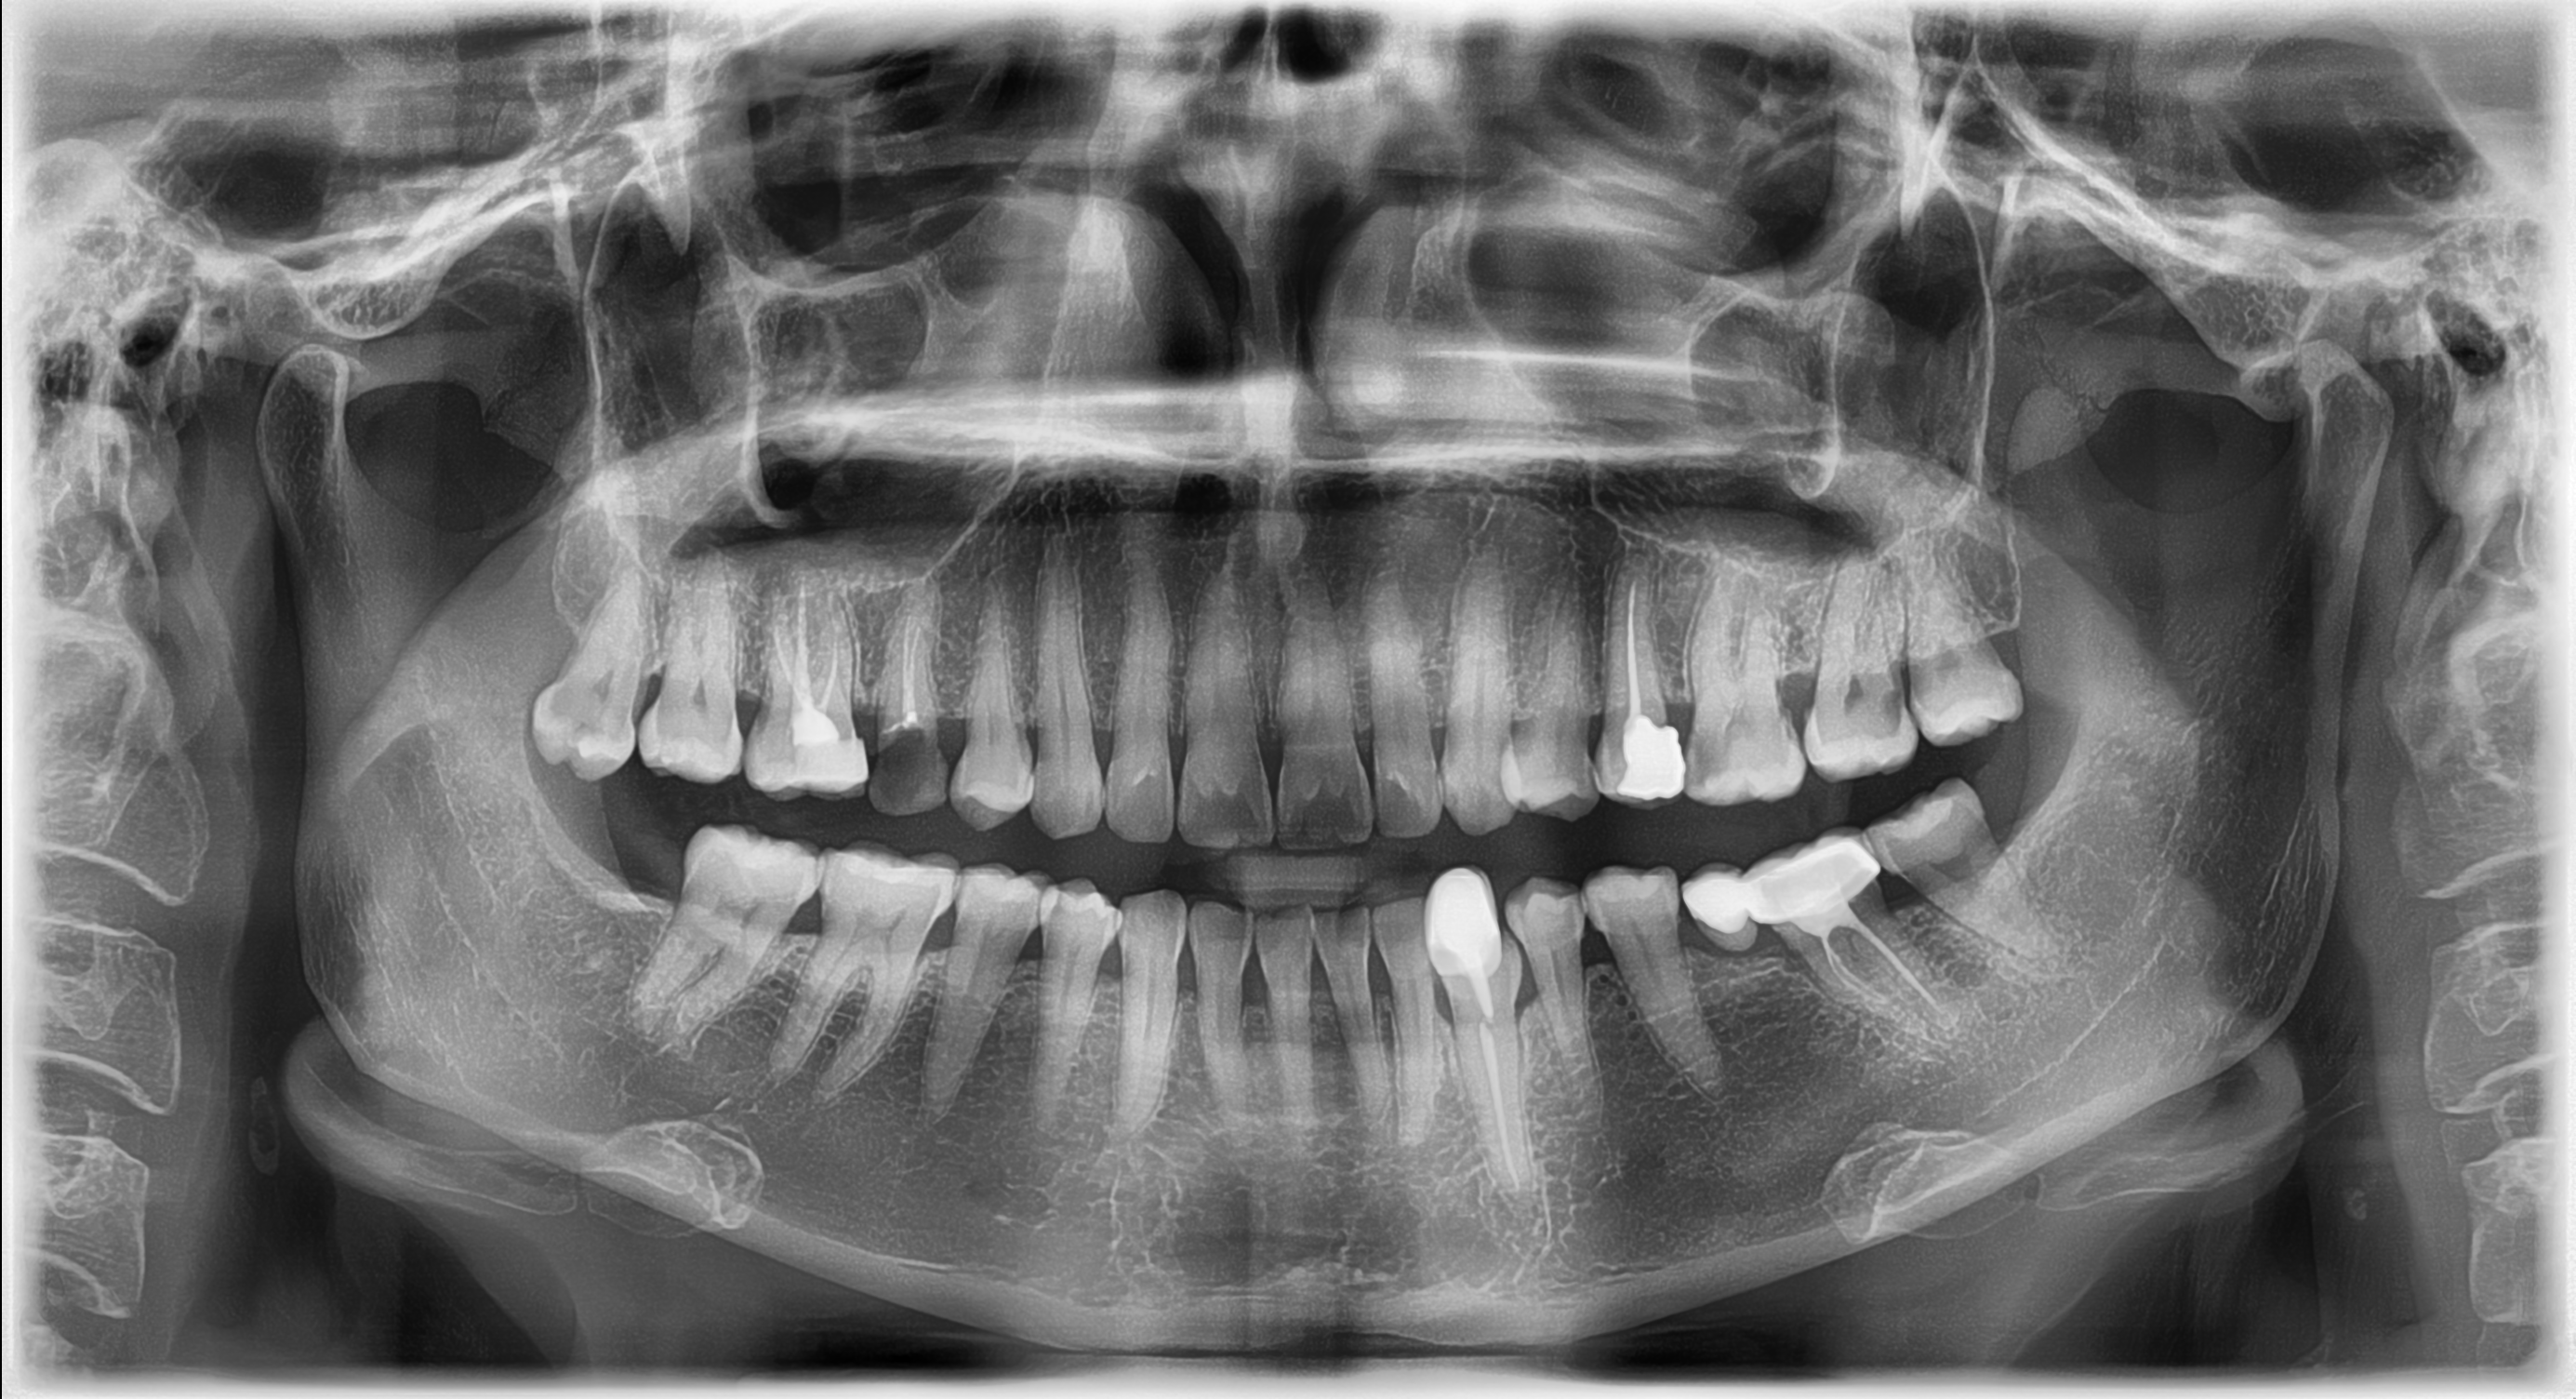cordal: (1855, 762, 2082, 972), (510, 534, 668, 810), (1882, 529, 2063, 767)
tratamiento_conducto: (1739, 806, 1946, 1058), (734, 541, 871, 820), (1586, 558, 1705, 815)
